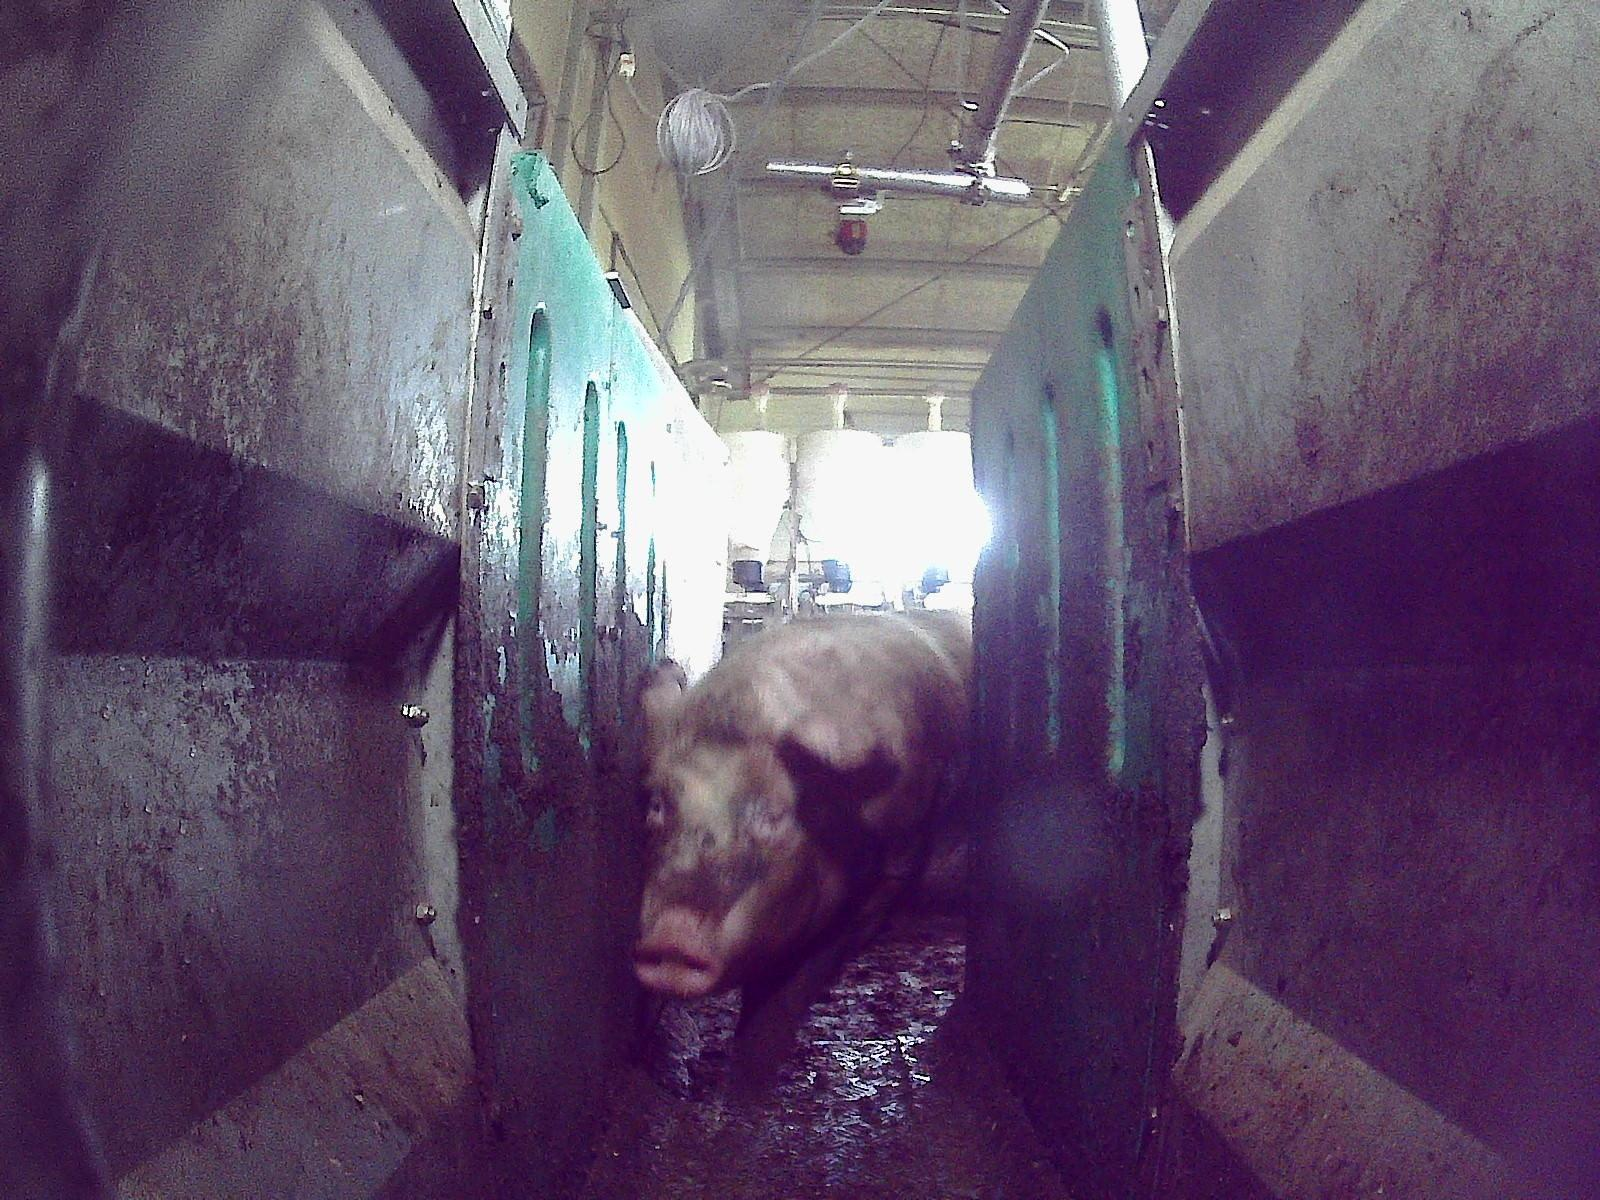Face: (632, 735, 836, 988)
